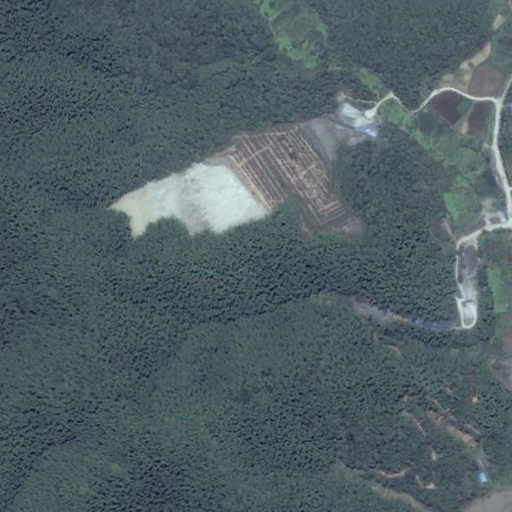tp: (105, 103, 379, 242)
